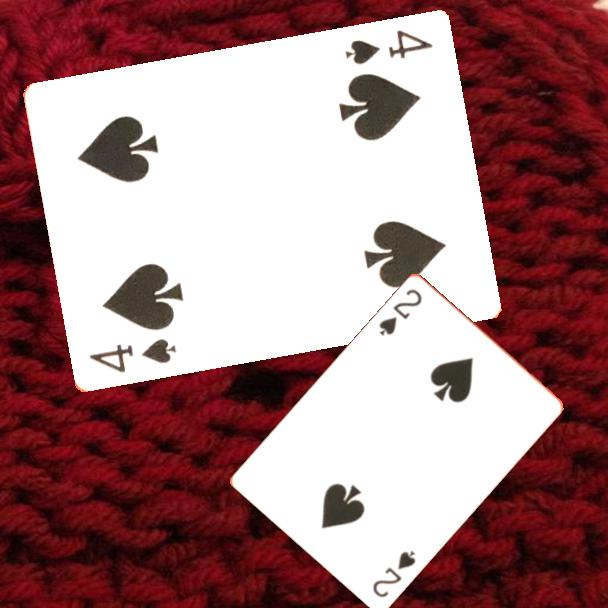s02: (369, 546, 419, 600), (375, 285, 425, 338)
s04: (85, 335, 179, 376), (341, 27, 435, 68)
